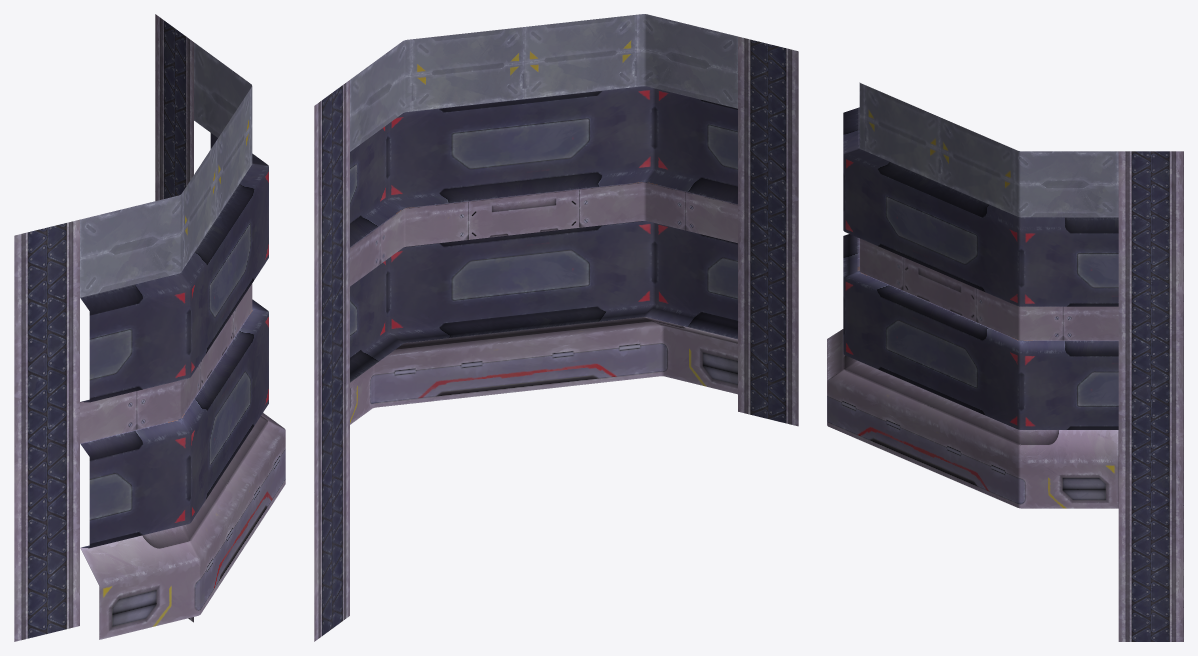
File: SM_Walkway_CornerWalls.fbx
3 views of the same model, side by side, from view 1: azimuth 30°, elevation 25°; view 2: azimuth 150°, elevation 25°; view 3: azimuth 270°, elevation 25° (orthographic). The views are drawn at different scales.
Visible parts, largest first — view 1: SM_Walkway_CornerWalls; view 2: SM_Walkway_CornerWalls; view 3: SM_Walkway_CornerWalls.
Boxes of the visible parts, left/top/right/bottom form: SM_Walkway_CornerWalls: left=14, top=14, right=285, bottom=641; SM_Walkway_CornerWalls: left=314, top=14, right=798, bottom=641; SM_Walkway_CornerWalls: left=827, top=82, right=1183, bottom=641.
Bounding box in the file's own units: 660 × 1000 × 659.
